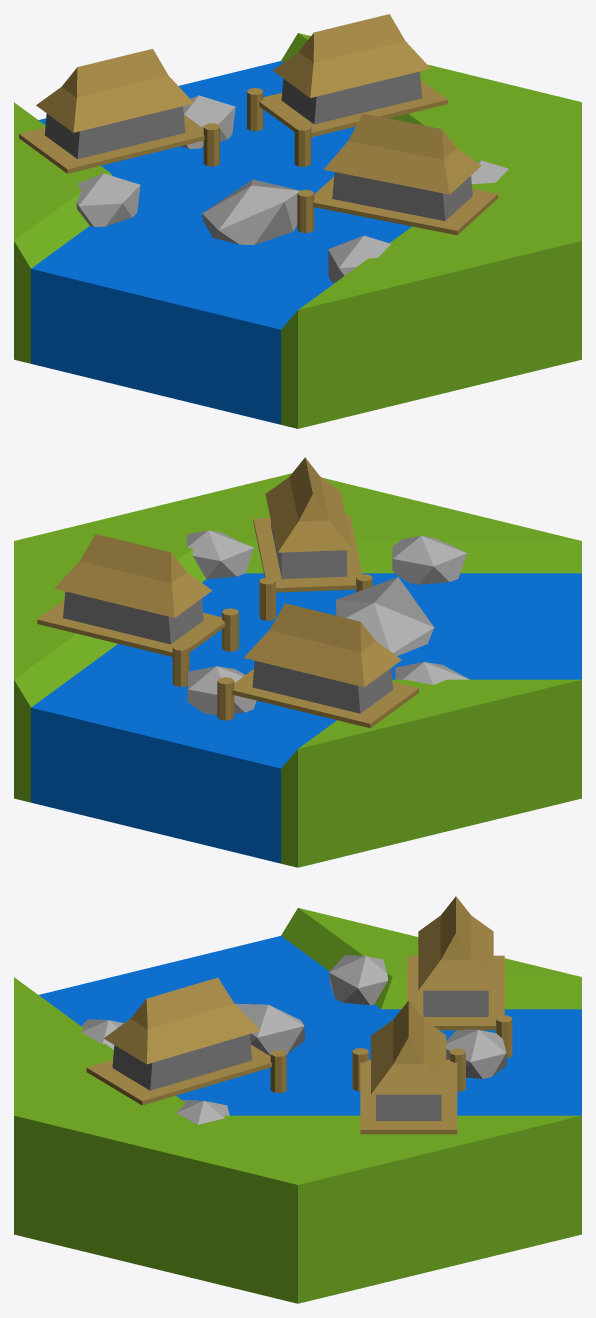
The model's file is Casas_Rio_Curva_3.fbx.
3 views of the same model, one above another, from view 1: azimuth 30°, elevation 25°; view 2: azimuth 150°, elevation 25°; view 3: azimuth 270°, elevation 25° (orthographic).
Parts seen in each view (by area): view 1: Casas_Rio_Curva_3; view 2: Casas_Rio_Curva_3; view 3: Casas_Rio_Curva_3.
Boxes of the visible parts, bbox=[...] form: Casas_Rio_Curva_3: bbox=[14, 14, 581, 428]; Casas_Rio_Curva_3: bbox=[14, 457, 581, 867]; Casas_Rio_Curva_3: bbox=[14, 896, 581, 1303].
Bounding box in the file's own units: 200 × 67.29 × 173.
